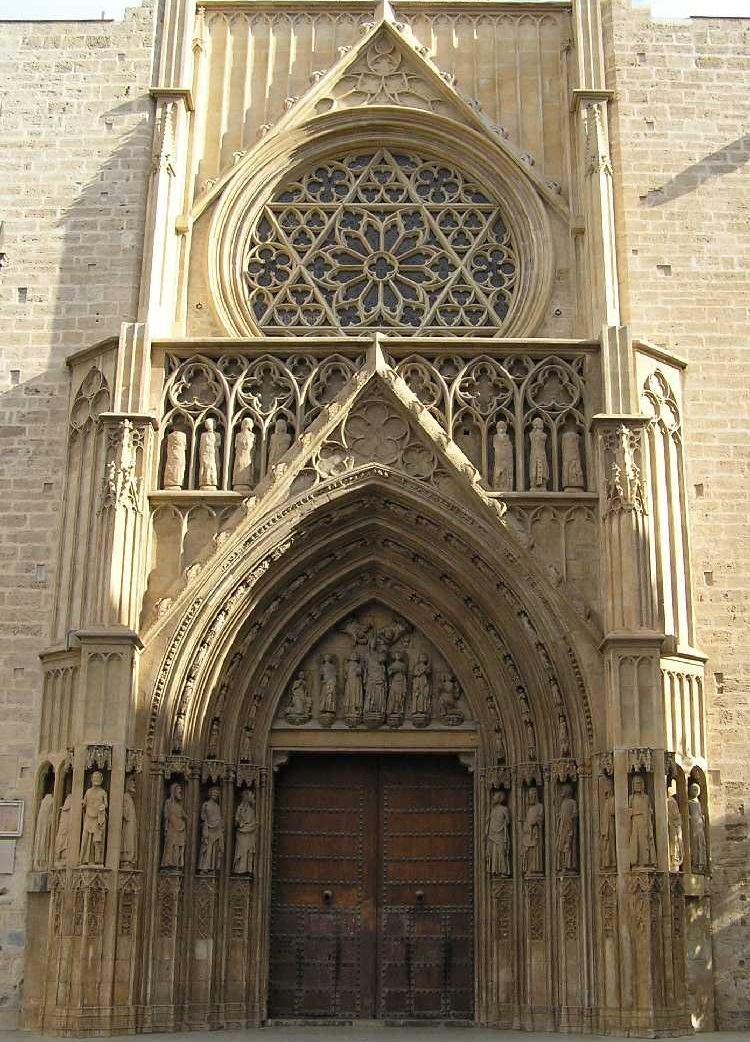arco-apuntado: (146, 456, 595, 740)
